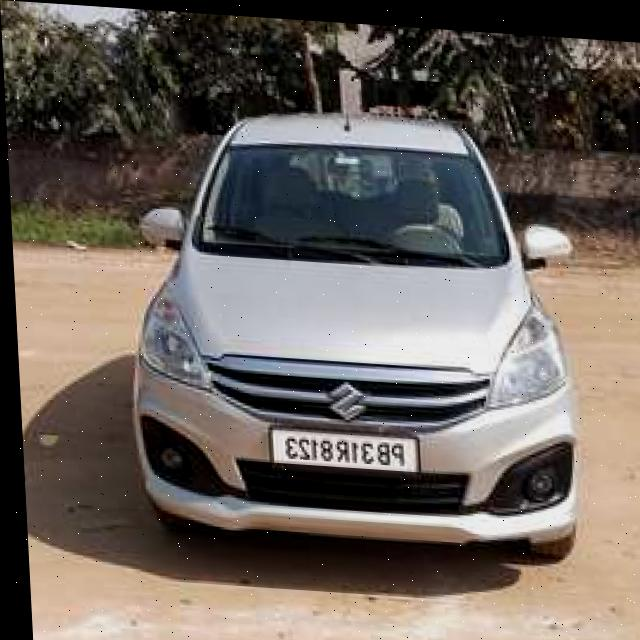plate: (264, 422, 415, 466)
